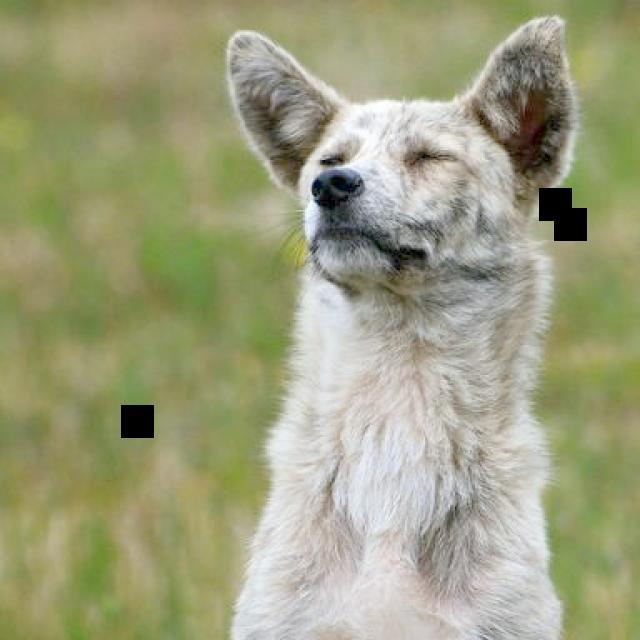adult_dog: (224, 16, 581, 640)
